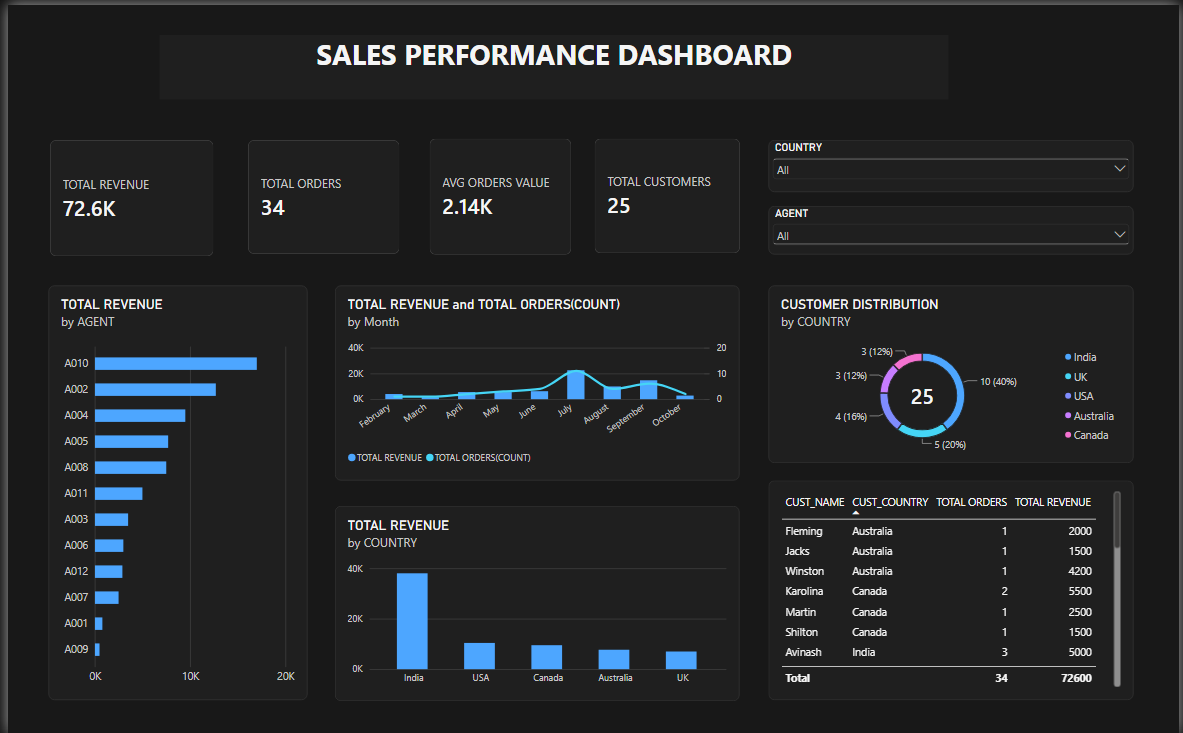

This screenshot's page, from the dashboard's own definition file:
{"tool":"powerbi","page":{"name":"Page 1","canvas":[1560,971],"ordinal":0},"visuals":[{"type":"cardVisual","fields":{"Data":["orders1.TOTAL ORDERS"]},"box":[320,180,202.5,152.5],"z":0},{"type":"cardVisual","fields":{"Data":["orders1.TOTAL REVENUE"]},"box":[55,180,218.1,155.8],"z":1000},{"type":"cardVisual","fields":{"Data":["orders1.AVG ORDERS VALUE"]},"box":[562.5,177.5,189.4,155.8],"z":2000},{"type":"cardVisual","fields":{"Data":["orders1.TOTAL CUSTOMERS"]},"box":[782.5,177.5,194.1,153.4],"z":3000},{"type":"clusteredBarChart","fields":{"Category":["orders1.AGENT_CODE"],"Y":["orders1.TOTAL REVENUE"]},"box":[54.3,374.3,345.2,552.7],"z":4000},{"type":"clusteredColumnChart","fields":{"Category":["customer2.CUST_COUNTRY"],"Y":["orders1.TOTAL REVENUE"]},"box":[436.4,667.2,539.2,259.9],"z":5000},{"type":"lineStackedColumnComboChart","fields":{"Category":["orders1.ORD_DATE.Variation.Date Hierarchy.Month"],"Y":["orders1.TOTAL REVENUE"],"Y2":["orders1.TOTAL ORDERS"]},"box":[436.4,374.3,539.2,259.9],"z":6000},{"type":"donutChart","fields":{"Y":["orders1.TOTAL CUSTOMERS"],"Category":["customer2.CUST_COUNTRY"]},"box":[1014.3,374.3,486.8,236.6],"z":7000},{"type":"tableEx","fields":{"Values":["customer2.CUST_NAME","customer2.CUST_COUNTRY","orders1.TOTAL ORDERS","orders1.TOTAL REVENUE"]},"box":[1014.3,634.2,486.8,292.9],"z":8000},{"type":"slicer","fields":{"Values":["customer2.CUST_COUNTRY"]},"box":[1013.9,179.8,486.6,69.5],"z":9000},{"type":"slicer","fields":{"Values":["orders1.AGENT_CODE"]},"box":[1013.9,268.4,486.6,64.7],"z":10000},{"type":"textbox","box":[201.3,40.7,1052.2,86.3],"z":11000}]}

Visuals, with their boxes in screenshot pixels (x1, y1, x2, y2), scaled from the page's 1560x971 canvas onto the 1183x733 screenshot:
cardVisual - orders1.TOTAL ORDERS: [243, 136, 396, 251]
cardVisual - orders1.TOTAL REVENUE: [42, 136, 207, 253]
cardVisual - orders1.AVG ORDERS VALUE: [427, 134, 570, 252]
cardVisual - orders1.TOTAL CUSTOMERS: [593, 134, 741, 250]
clusteredBarChart - orders1.AGENT_CODE x orders1.TOTAL REVENUE: [41, 283, 303, 700]
clusteredColumnChart - customer2.CUST_COUNTRY x orders1.TOTAL REVENUE: [331, 504, 740, 700]
lineStackedColumnComboChart - orders1.ORD_DATE.Variation.Date Hierarchy.Month x orders1.TOTAL REVENUE: [331, 283, 740, 479]
donutChart - orders1.TOTAL CUSTOMERS x customer2.CUST_COUNTRY: [769, 283, 1138, 461]
tableEx - customer2.CUST_NAME x customer2.CUST_COUNTRY: [769, 479, 1138, 700]
slicer - customer2.CUST_COUNTRY: [769, 136, 1138, 188]
slicer - orders1.AGENT_CODE: [769, 203, 1138, 251]
textbox: [153, 31, 951, 96]
